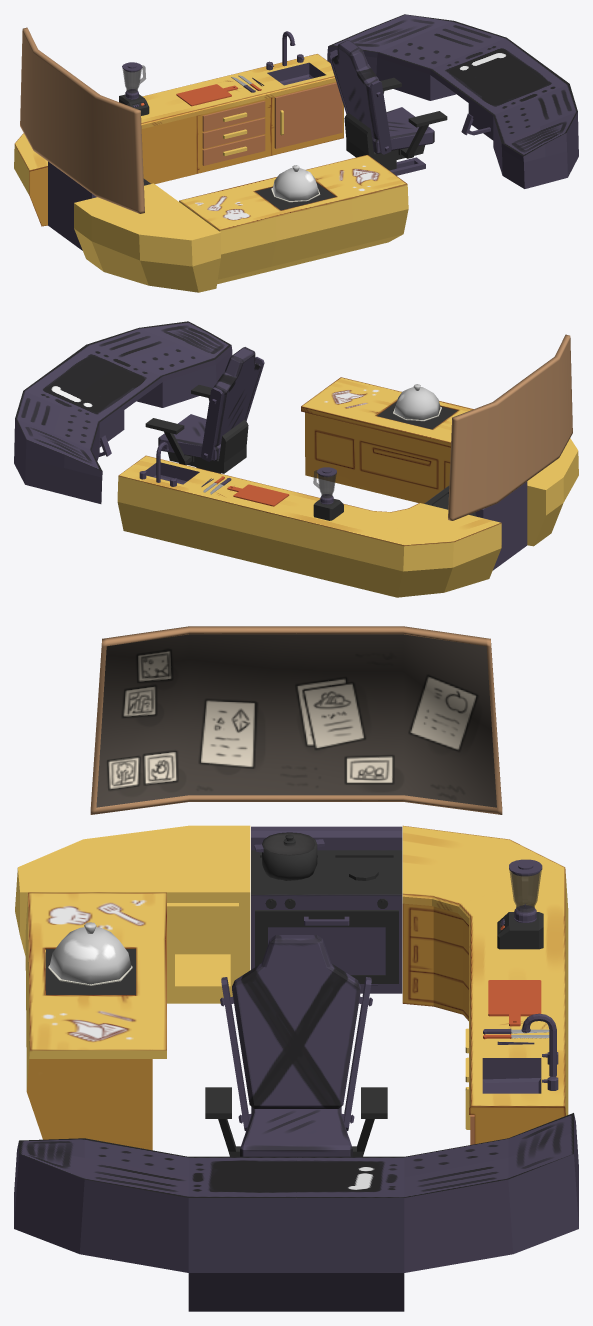
Rendered from Nave_Interior.fbx.
3 views of the same model, one above another, from view 1: azimuth 30°, elevation 25°; view 2: azimuth 150°, elevation 25°; view 3: azimuth 270°, elevation 25° (orthographic). The views are drawn at different scales.
Parts seen in each view (by area): view 1: Barra, Consola, PanelCorcho, Chair, Oven, PlateDome, Blender, CutBoard, PlateDoor1, Rieles; view 2: Barra, Consola, PanelCorcho, Chair, Oven, PlateDome, Blender, CutBoard, PlateDoor1; view 3: Barra, Consola, PanelCorcho, Chair, Oven, OvenDoor, PlateDome, Blender, OvenPot, CutBoard, PlateDoor2, OvenPotHandle.
Part boxes in pixels (x1,y1,x2,y2): Barra: (14, 31, 408, 292); Consola: (327, 14, 578, 188); PanelCorcho: (20, 27, 144, 213); Chair: (328, 40, 447, 170); Oven: (48, 161, 150, 250); PlateDome: (272, 165, 318, 200); Blender: (119, 65, 149, 115); CutBoard: (176, 84, 237, 106); PlateDoor1: (255, 187, 307, 210); Rieles: (389, 157, 425, 175); Barra: (117, 377, 578, 597); Consola: (14, 321, 232, 503); PanelCorcho: (448, 334, 572, 520); Chair: (145, 347, 264, 473); Oven: (424, 481, 527, 570); PlateDome: (394, 384, 440, 419); Blender: (313, 470, 343, 520); CutBoard: (227, 484, 289, 506); PlateDoor1: (405, 406, 457, 429); Barra: (15, 825, 568, 1150); Consola: (14, 1113, 578, 1311); PanelCorcho: (90, 626, 502, 814); Chair: (205, 935, 387, 1156); Oven: (251, 826, 402, 993); OvenDoor: (255, 910, 398, 983); PlateDome: (49, 922, 131, 984); Blender: (497, 870, 543, 949); OvenPot: (254, 833, 324, 880); CutBoard: (488, 980, 541, 1026); PlateDoor2: (45, 972, 135, 994); OvenPotHandle: (263, 832, 315, 855).
Bounding box in the file's own units: 132 × 84.3 × 221.
